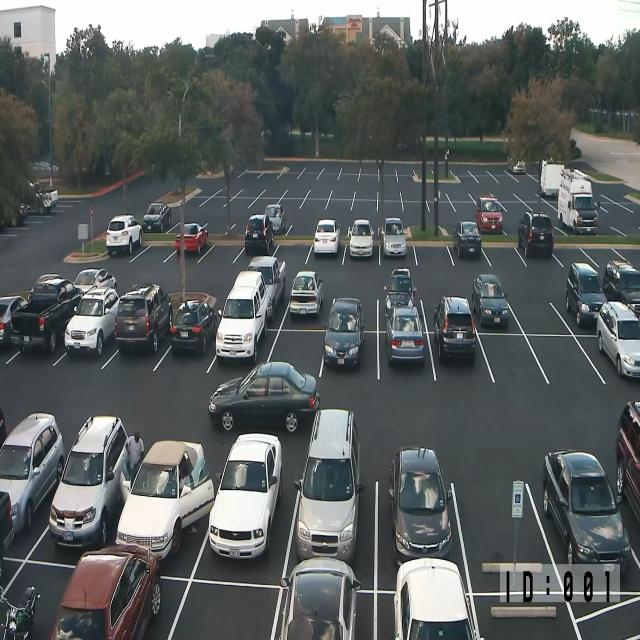car: (115, 439, 215, 561), (542, 448, 632, 574), (294, 407, 364, 564), (48, 414, 130, 548), (50, 542, 162, 640), (208, 432, 282, 559), (208, 360, 320, 433), (0, 412, 65, 536), (388, 445, 452, 565), (270, 556, 361, 640), (394, 556, 485, 640), (10, 274, 84, 354), (215, 270, 270, 361), (115, 282, 172, 354), (64, 286, 119, 356), (596, 300, 640, 378), (615, 399, 640, 523), (323, 296, 365, 369), (433, 295, 476, 363), (565, 261, 607, 327), (170, 298, 217, 356), (557, 170, 598, 236), (247, 256, 286, 322), (384, 304, 424, 364), (0, 584, 41, 640), (602, 259, 640, 318), (472, 273, 509, 327), (517, 210, 554, 258), (289, 270, 323, 318), (383, 268, 417, 314), (106, 214, 142, 255), (0, 294, 27, 348), (0, 490, 15, 576), (73, 268, 118, 296), (244, 212, 273, 254), (453, 220, 482, 258), (174, 222, 208, 254), (348, 218, 374, 258), (313, 218, 341, 255), (476, 196, 503, 234), (381, 216, 406, 257), (142, 202, 171, 232), (264, 203, 286, 235), (11, 202, 28, 227), (507, 152, 526, 174), (30, 160, 58, 172), (0, 406, 7, 452), (512, 158, 526, 174)
